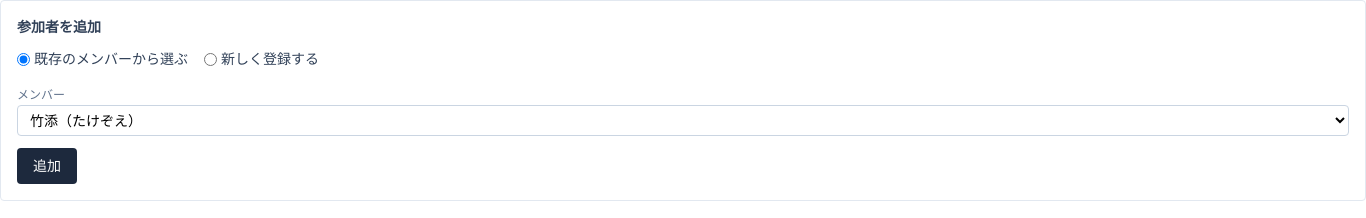
Scenario: AddParticipantForm › 新しく登録に切り替えると氏名の入力に変わる
Click the radio button labelled "新しく登録する" at (210, 59), box [204,52,217,66]
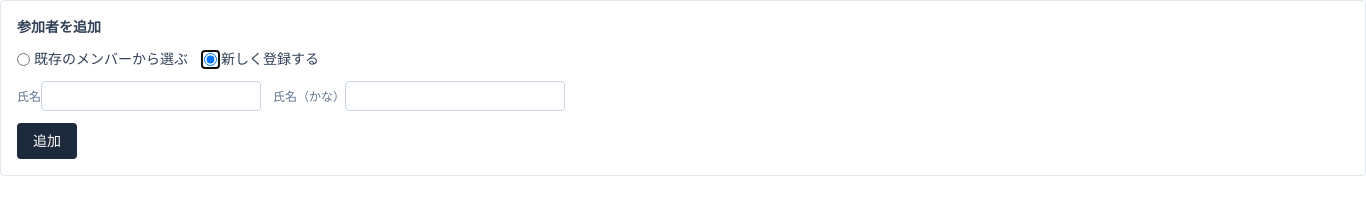
Result: the field labelled "氏名" is shown at [41,81,261,111]
